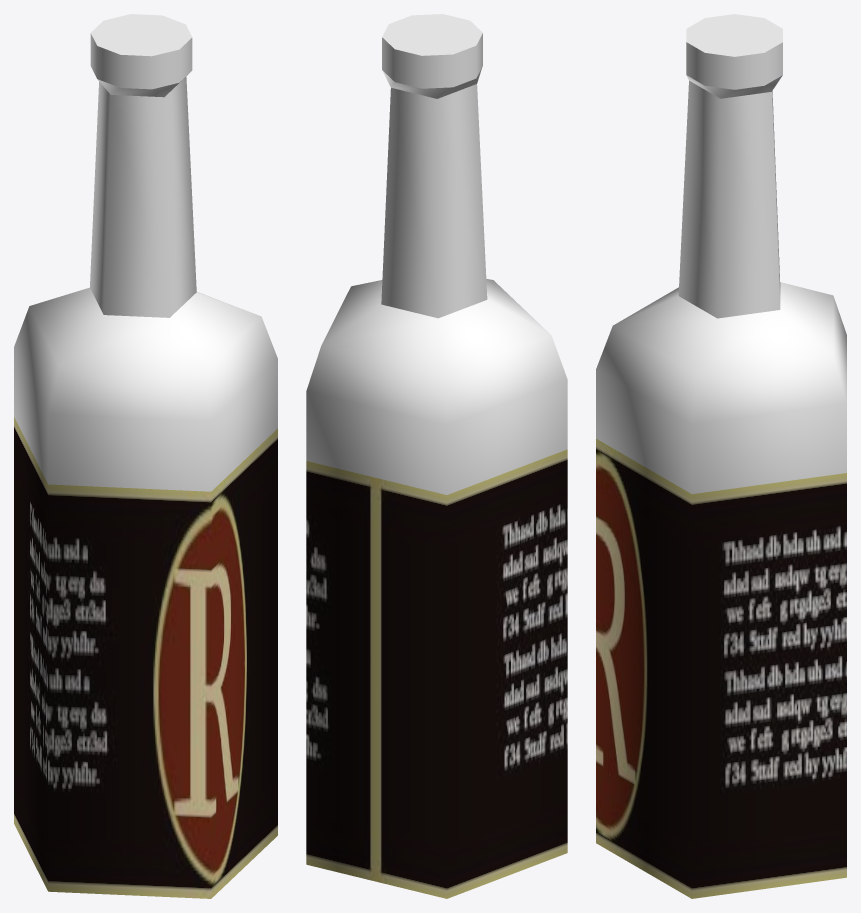
Rendered from VodkaMinibottle.FBX.
The picture shows the model from 3 angles, left to right: view 1: azimuth 30°, elevation 25°; view 2: azimuth 150°, elevation 25°; view 3: azimuth 270°, elevation 25°; orthographic projection.
Parts seen in each view (by area): view 1: Cylinder202; view 2: Cylinder202; view 3: Cylinder202.
Part boxes in pixels (left/top/right/bottom): Cylinder202: left=14, top=14, right=277, bottom=898; Cylinder202: left=306, top=14, right=567, bottom=898; Cylinder202: left=596, top=14, right=846, bottom=898.
Size of the model in its own units: 2.18 by 7.37 by 2.07.
2 materials, 2 textured.
